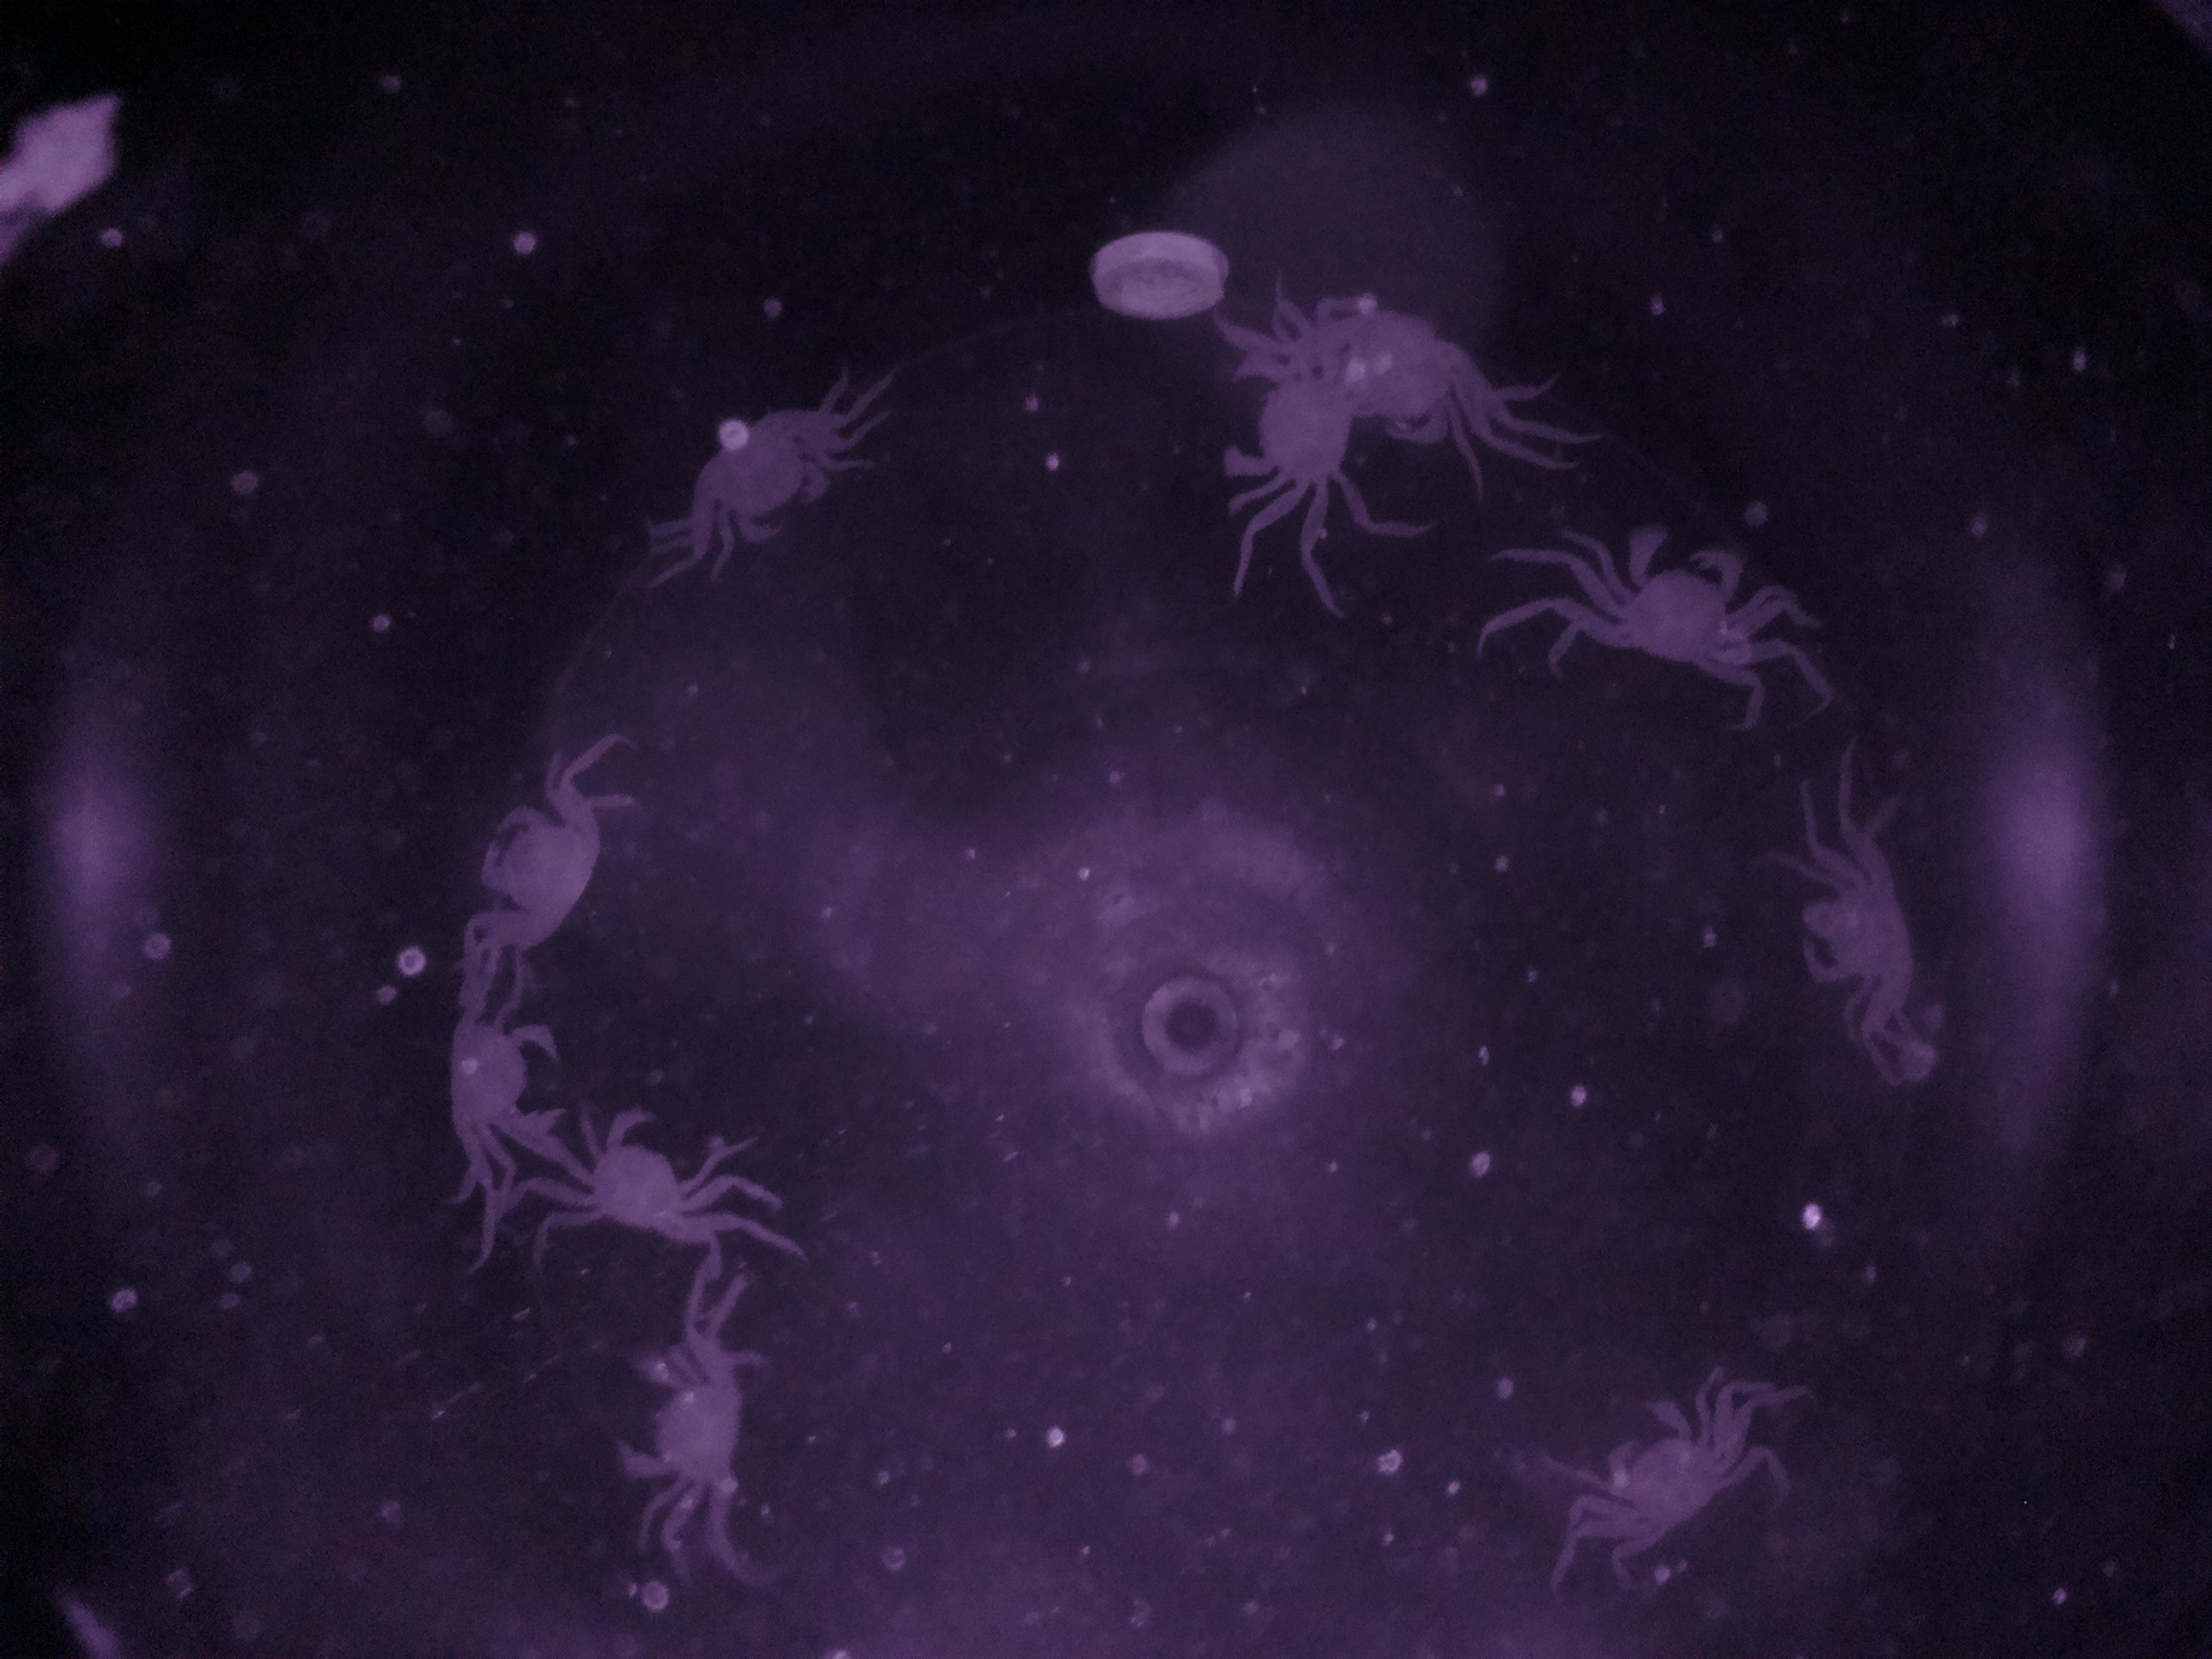Crab: (610, 1316, 801, 1534), (669, 380, 850, 580), (1569, 504, 1773, 680), (1775, 835, 1963, 1021), (1197, 328, 1376, 518), (428, 962, 571, 1183), (1566, 1375, 1737, 1560), (566, 1089, 730, 1281), (448, 777, 615, 951)
